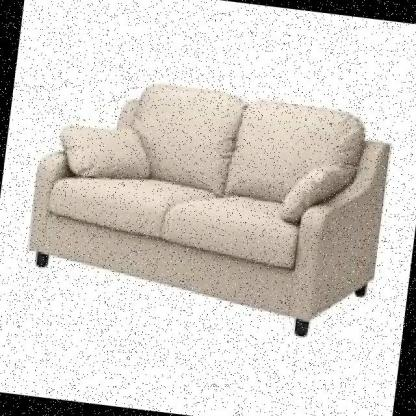Sofa: (0, 55, 416, 364)
